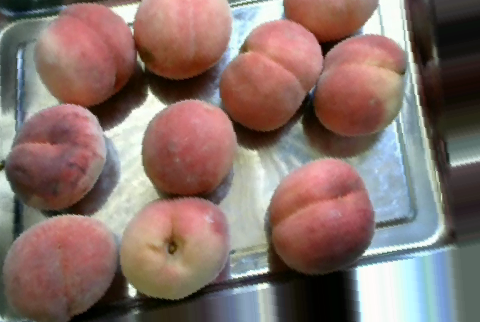Peach: (267, 158, 374, 273), (3, 214, 115, 320), (120, 197, 230, 301), (219, 18, 320, 131), (32, 2, 138, 106), (4, 103, 104, 211), (310, 35, 406, 136), (139, 98, 236, 195)
